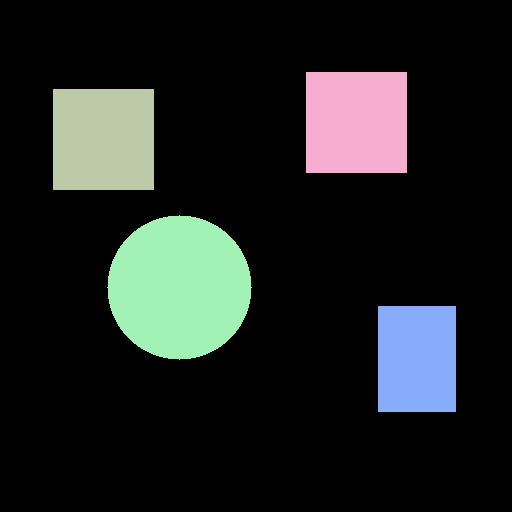circle: (107, 215, 251, 359)
rectangle: (378, 306, 455, 411)
square: (53, 89, 153, 189), (306, 72, 406, 172)
